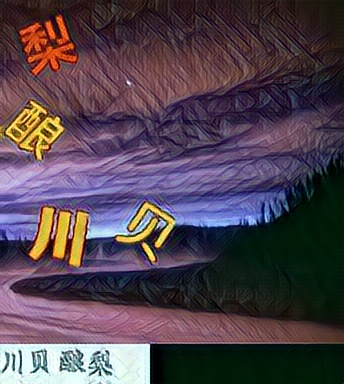B1B4: (113, 195, 176, 262)
B4A8: (28, 198, 91, 265)
C0E6: (17, 13, 80, 80)
C4F0: (5, 98, 68, 165)
